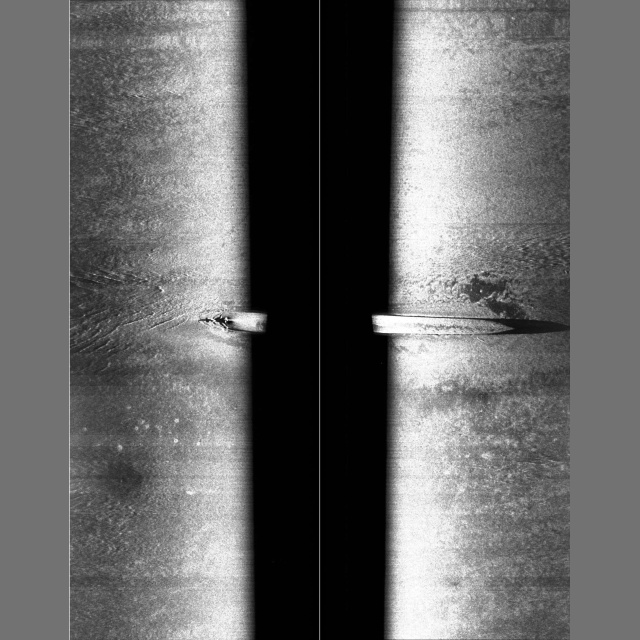Shipwreck: (208, 312, 515, 342)
